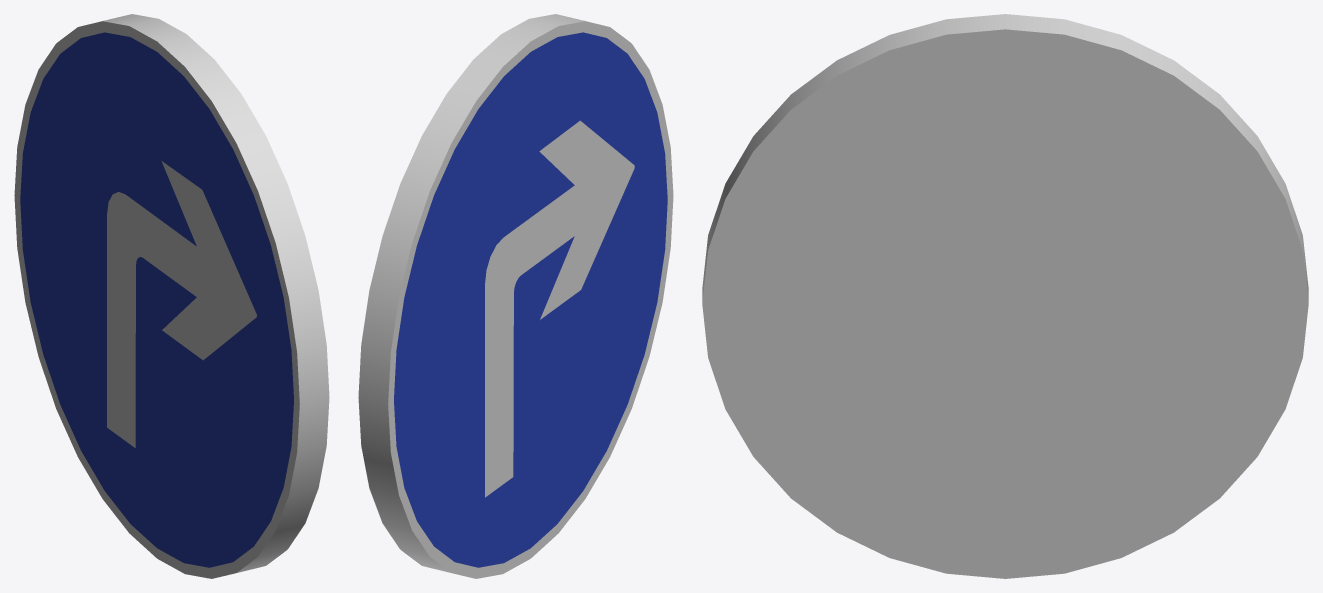
File: Turn_Right.fbx
3 renders of one model, left to right at view 1: azimuth 30°, elevation 25°; view 2: azimuth 150°, elevation 25°; view 3: azimuth 270°, elevation 25°, orthographic. The views are drawn at different scales.
Parts seen in each view (by area): view 1: Turn_Right; view 2: Turn_Right; view 3: Turn_Right.
Boxes of the visible parts, x1,y1,x2,y2 form: Turn_Right: (14, 14, 329, 578); Turn_Right: (358, 14, 673, 578); Turn_Right: (702, 14, 1308, 578).
Size of the model in its own units: 0.0643 by 1 by 1.
